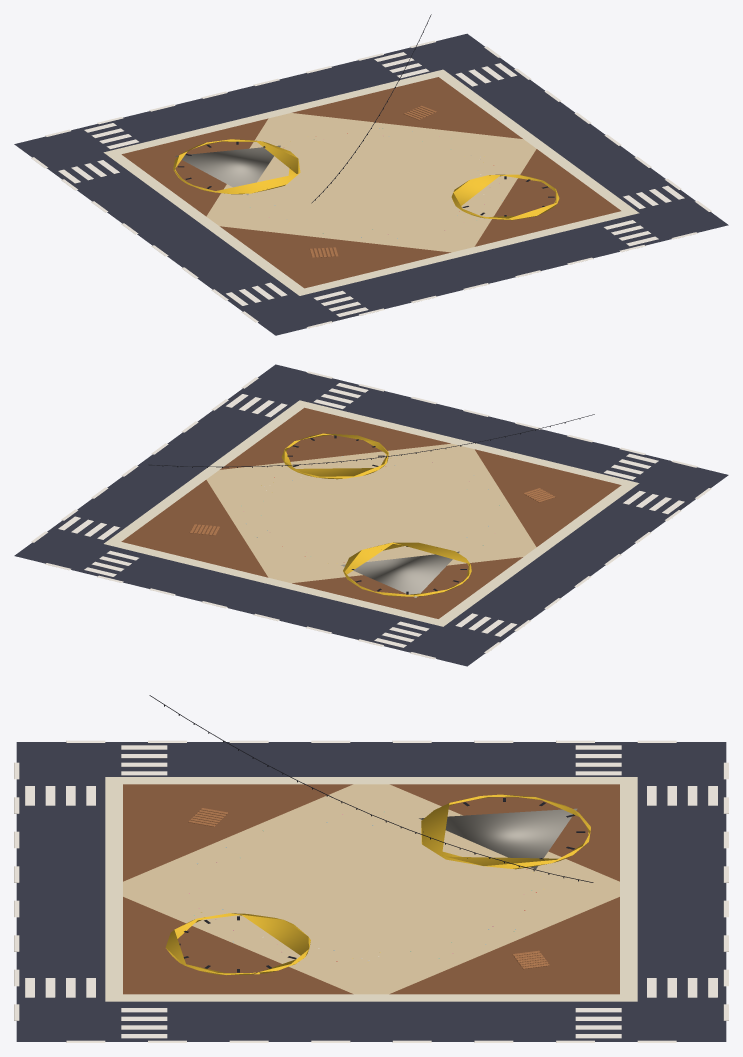
The model's file is tile_fair.glb.
The picture shows the model from 3 angles, top to bottom: view 1: azimuth 30°, elevation 25°; view 2: azimuth 150°, elevation 25°; view 3: azimuth 270°, elevation 25°; orthographic projection. The views are drawn at different scales.
Parts seen in each view (by area): view 1: tile_fair; view 2: tile_fair; view 3: tile_fair.
Part boxes in pixels (left/top/right/bottom): tile_fair: left=14, top=14, right=728, bottom=335; tile_fair: left=14, top=364, right=728, bottom=666; tile_fair: left=14, top=695, right=728, bottom=1042.
Size of the model in its own units: 40.3 by 6.42 by 40.3.
Materials: 1 (1 with a texture image).
